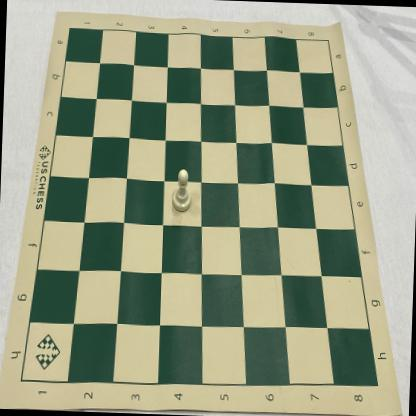pawn: (170, 168, 192, 214)
